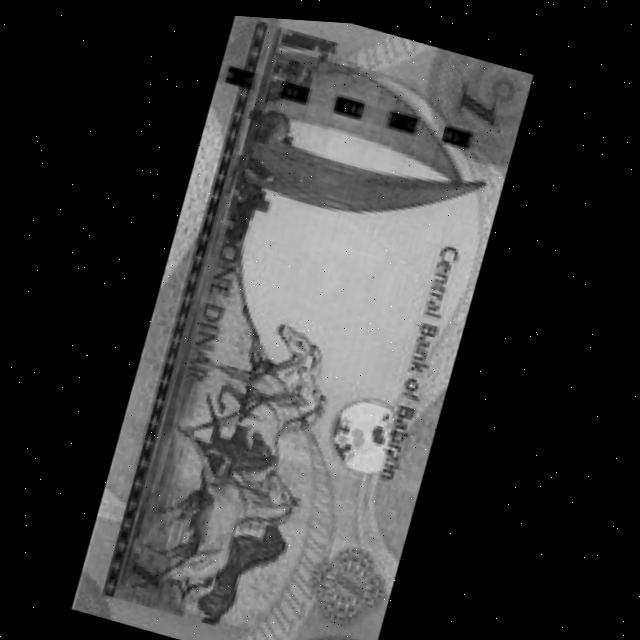banknote: (76, 6, 538, 640)
